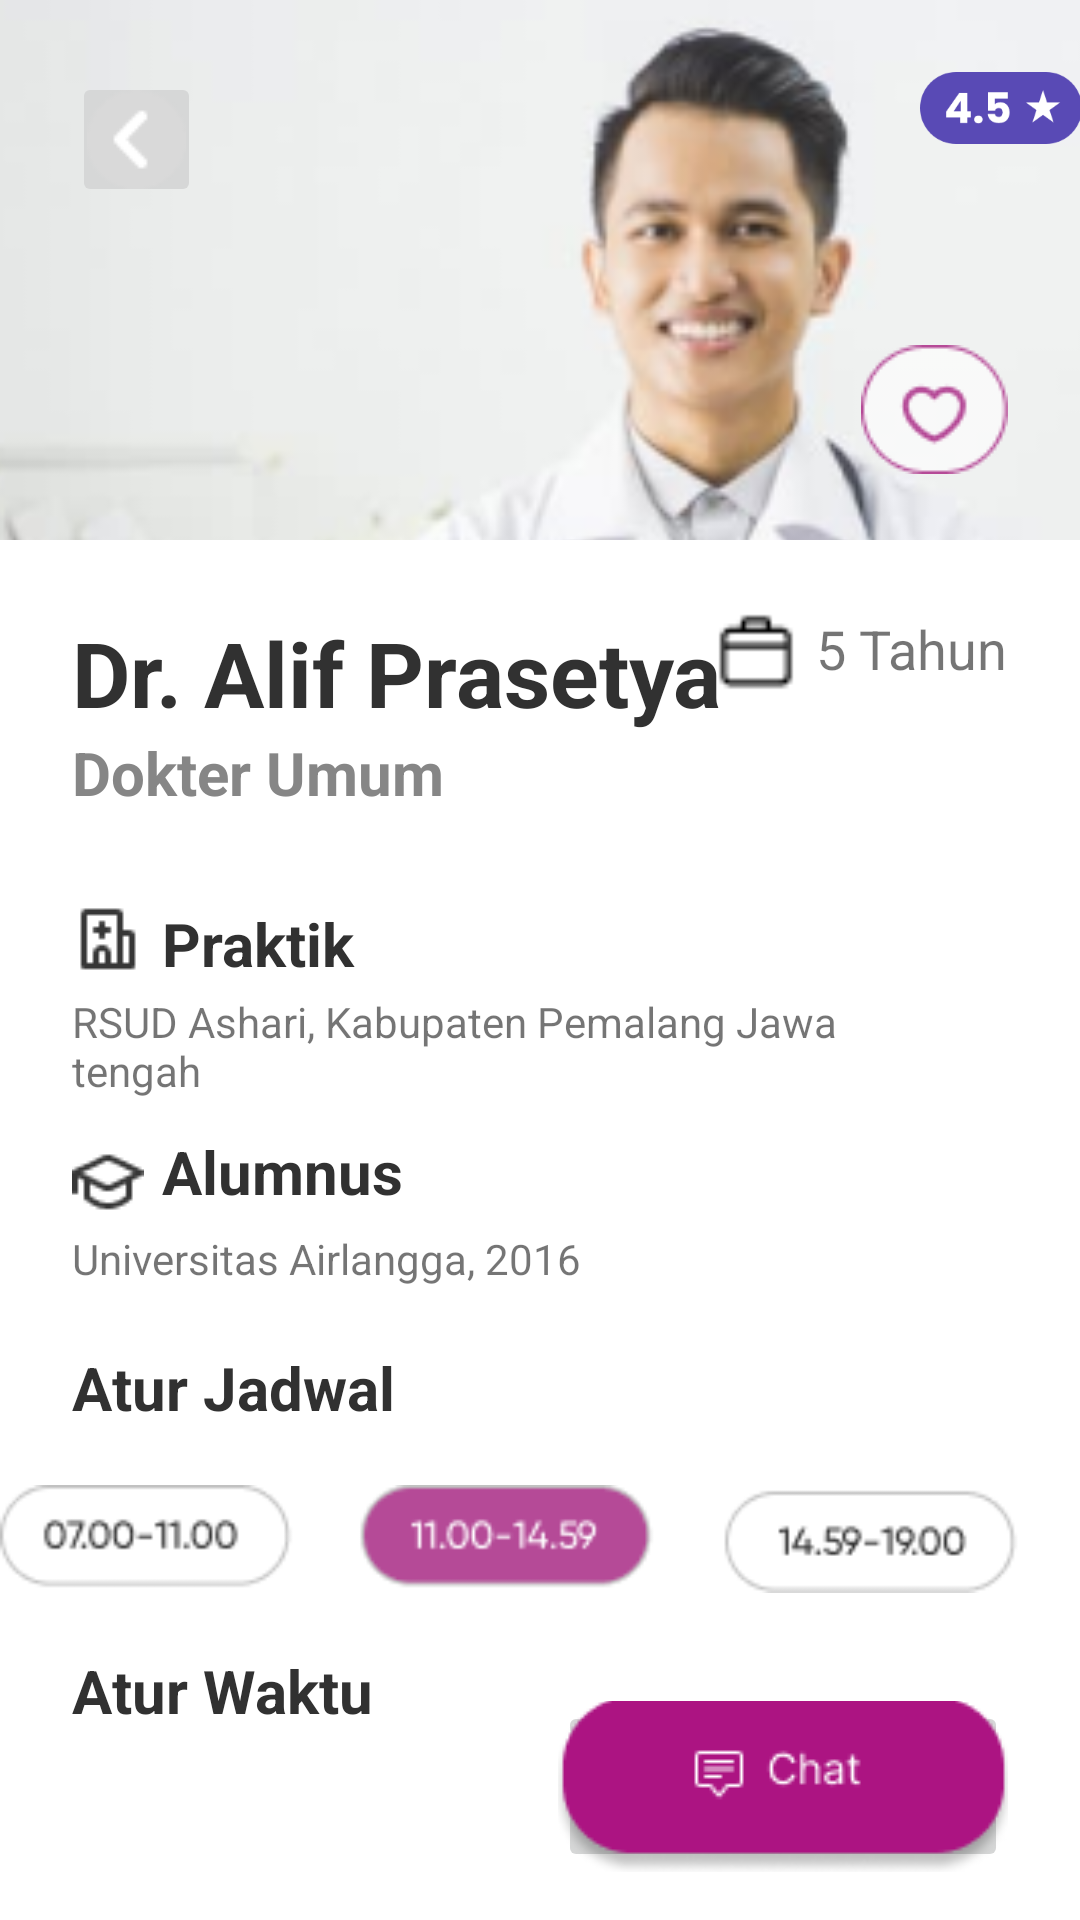

Icons on this 1080 x 1920 Android screen, each with the point to tap as (x,y):
bag: (756,652)
graduation: (108,1182)
like: (934,409)
rating: (1000,108)
